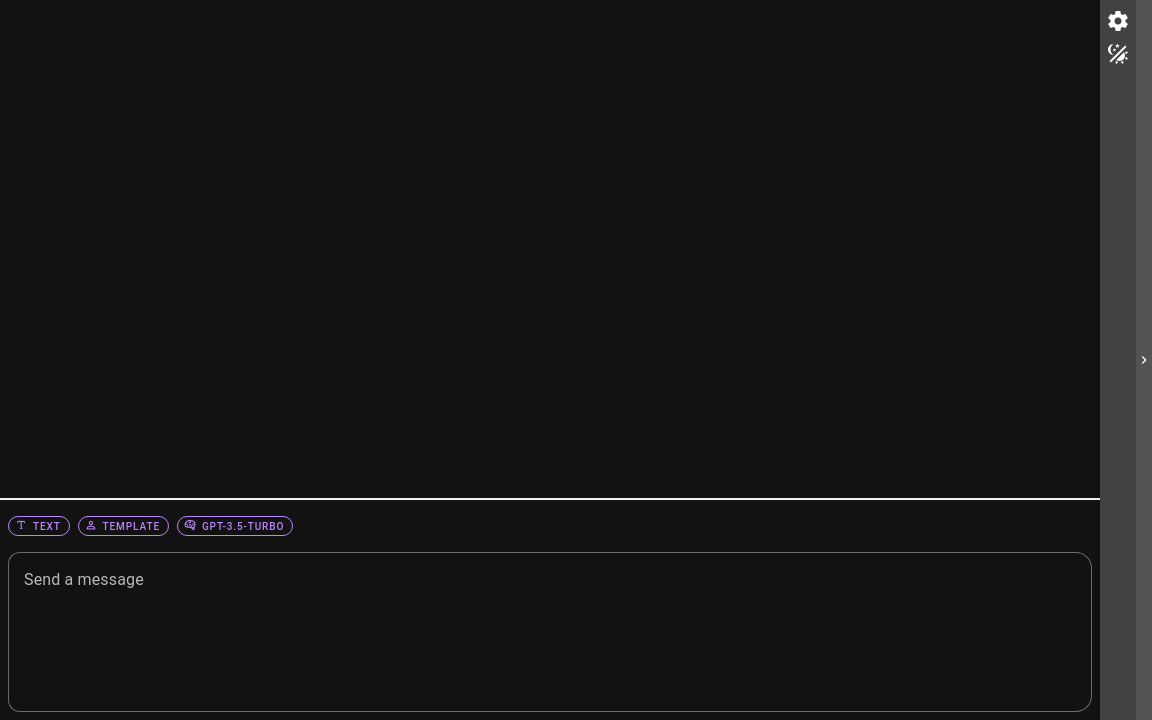
Test: SiePanel.vue spec › Check configuration buttons when "Image" is selected
Click the text "TEXT" at {"x": 47, "y": 527}, box 32,521 -> 61,532
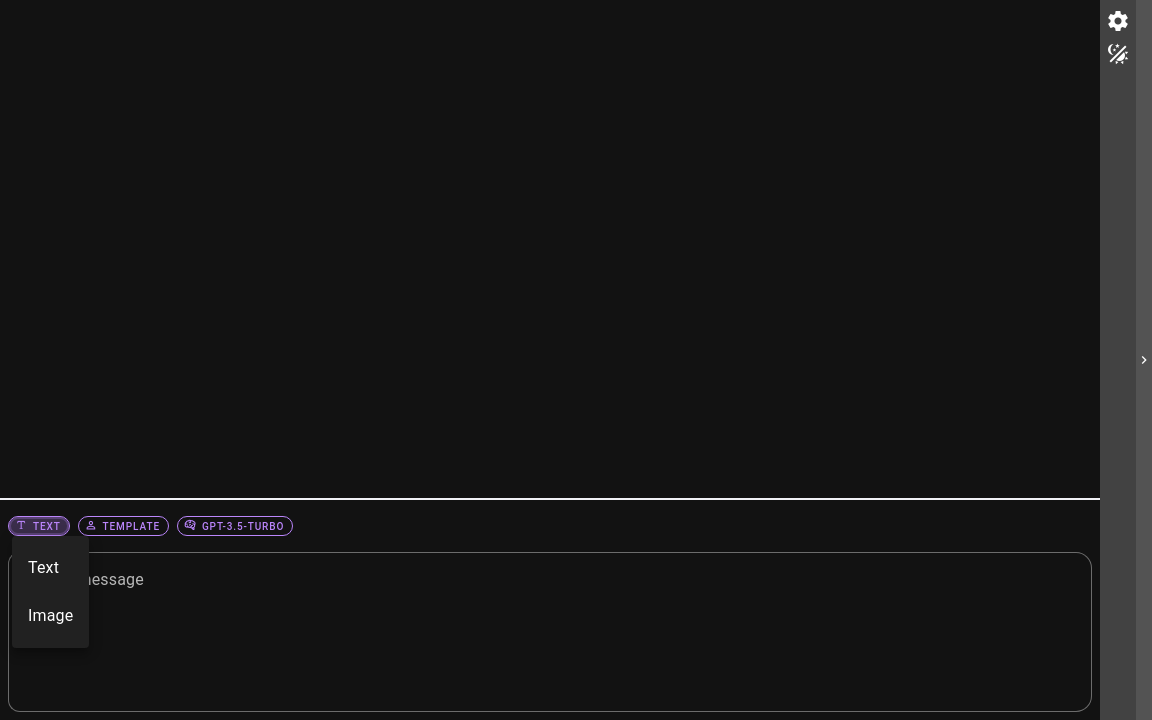
Click the text "Image" at {"x": 51, "y": 616}, box 28,604 -> 73,628
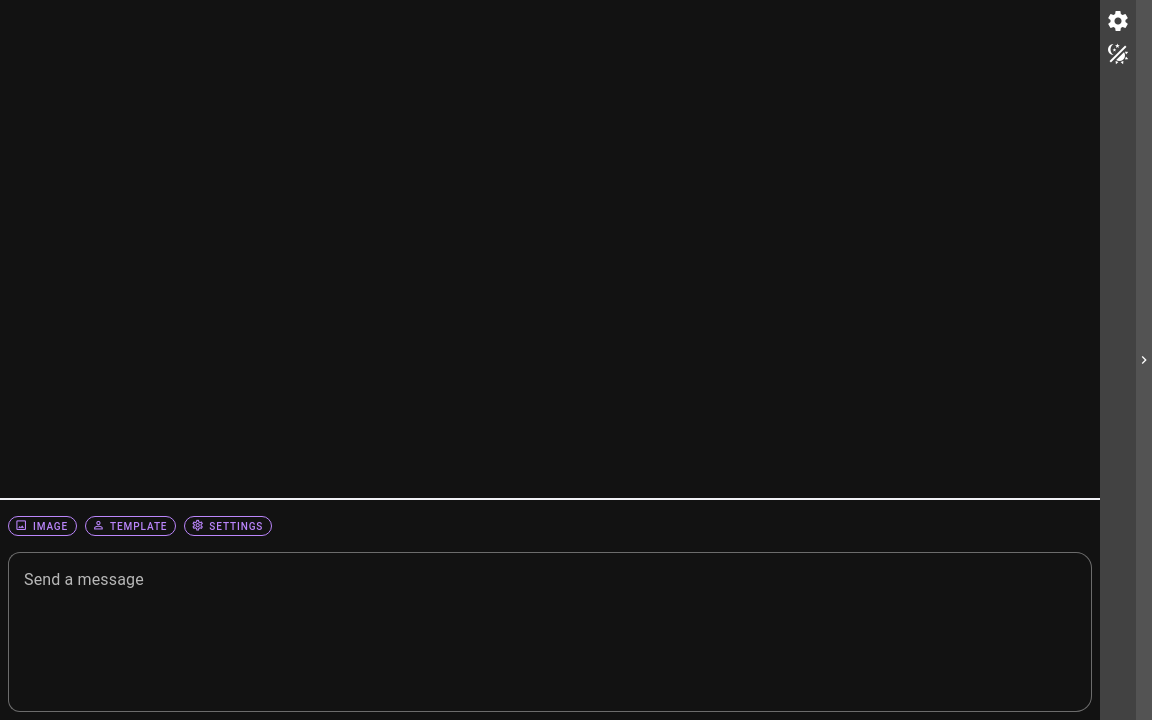
Expected: the text "TEMPLATE" is shown, 109,520 -> 167,532
Expected: the text "IMAGE" is shown, 32,520 -> 68,532
Expected: the text "SETTINGS" is shown, 208,520 -> 263,532
